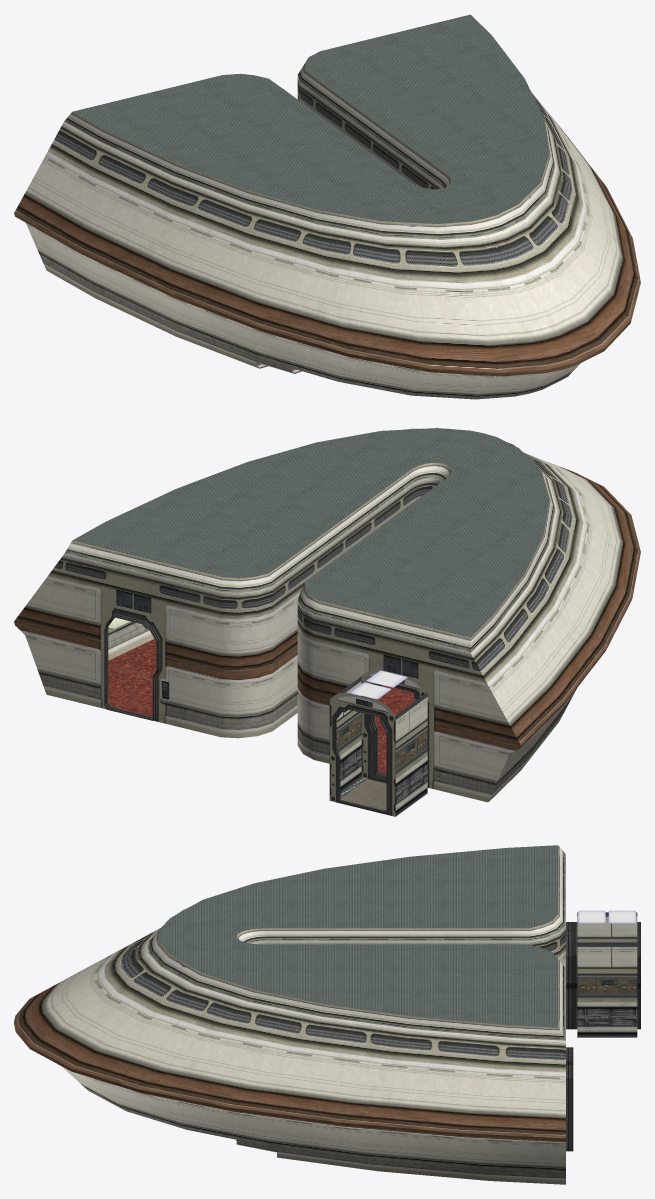
The model's file is sorosuub_space_yacht_r4_stateroom_mesh_r4.fbx.
3 renders of one model, top to bottom at view 1: azimuth 30°, elevation 25°; view 2: azimuth 150°, elevation 25°; view 3: azimuth 270°, elevation 25°, orthographic. The views are drawn at different scales.
Visible parts, largest first — view 1: mesh_node; view 2: mesh_node; view 3: mesh_node.
Part boxes in pixels (x1,y1,x2,y2): mesh_node: [14, 14, 640, 399]; mesh_node: [14, 428, 640, 816]; mesh_node: [14, 845, 640, 1184].
Size of the model in its own units: 14.65 by 4.32 by 16.71.
